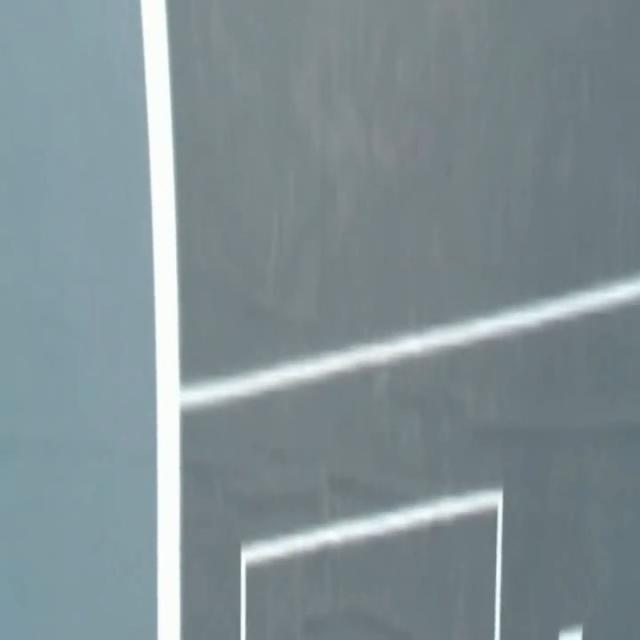left: (140, 0, 180, 639)
